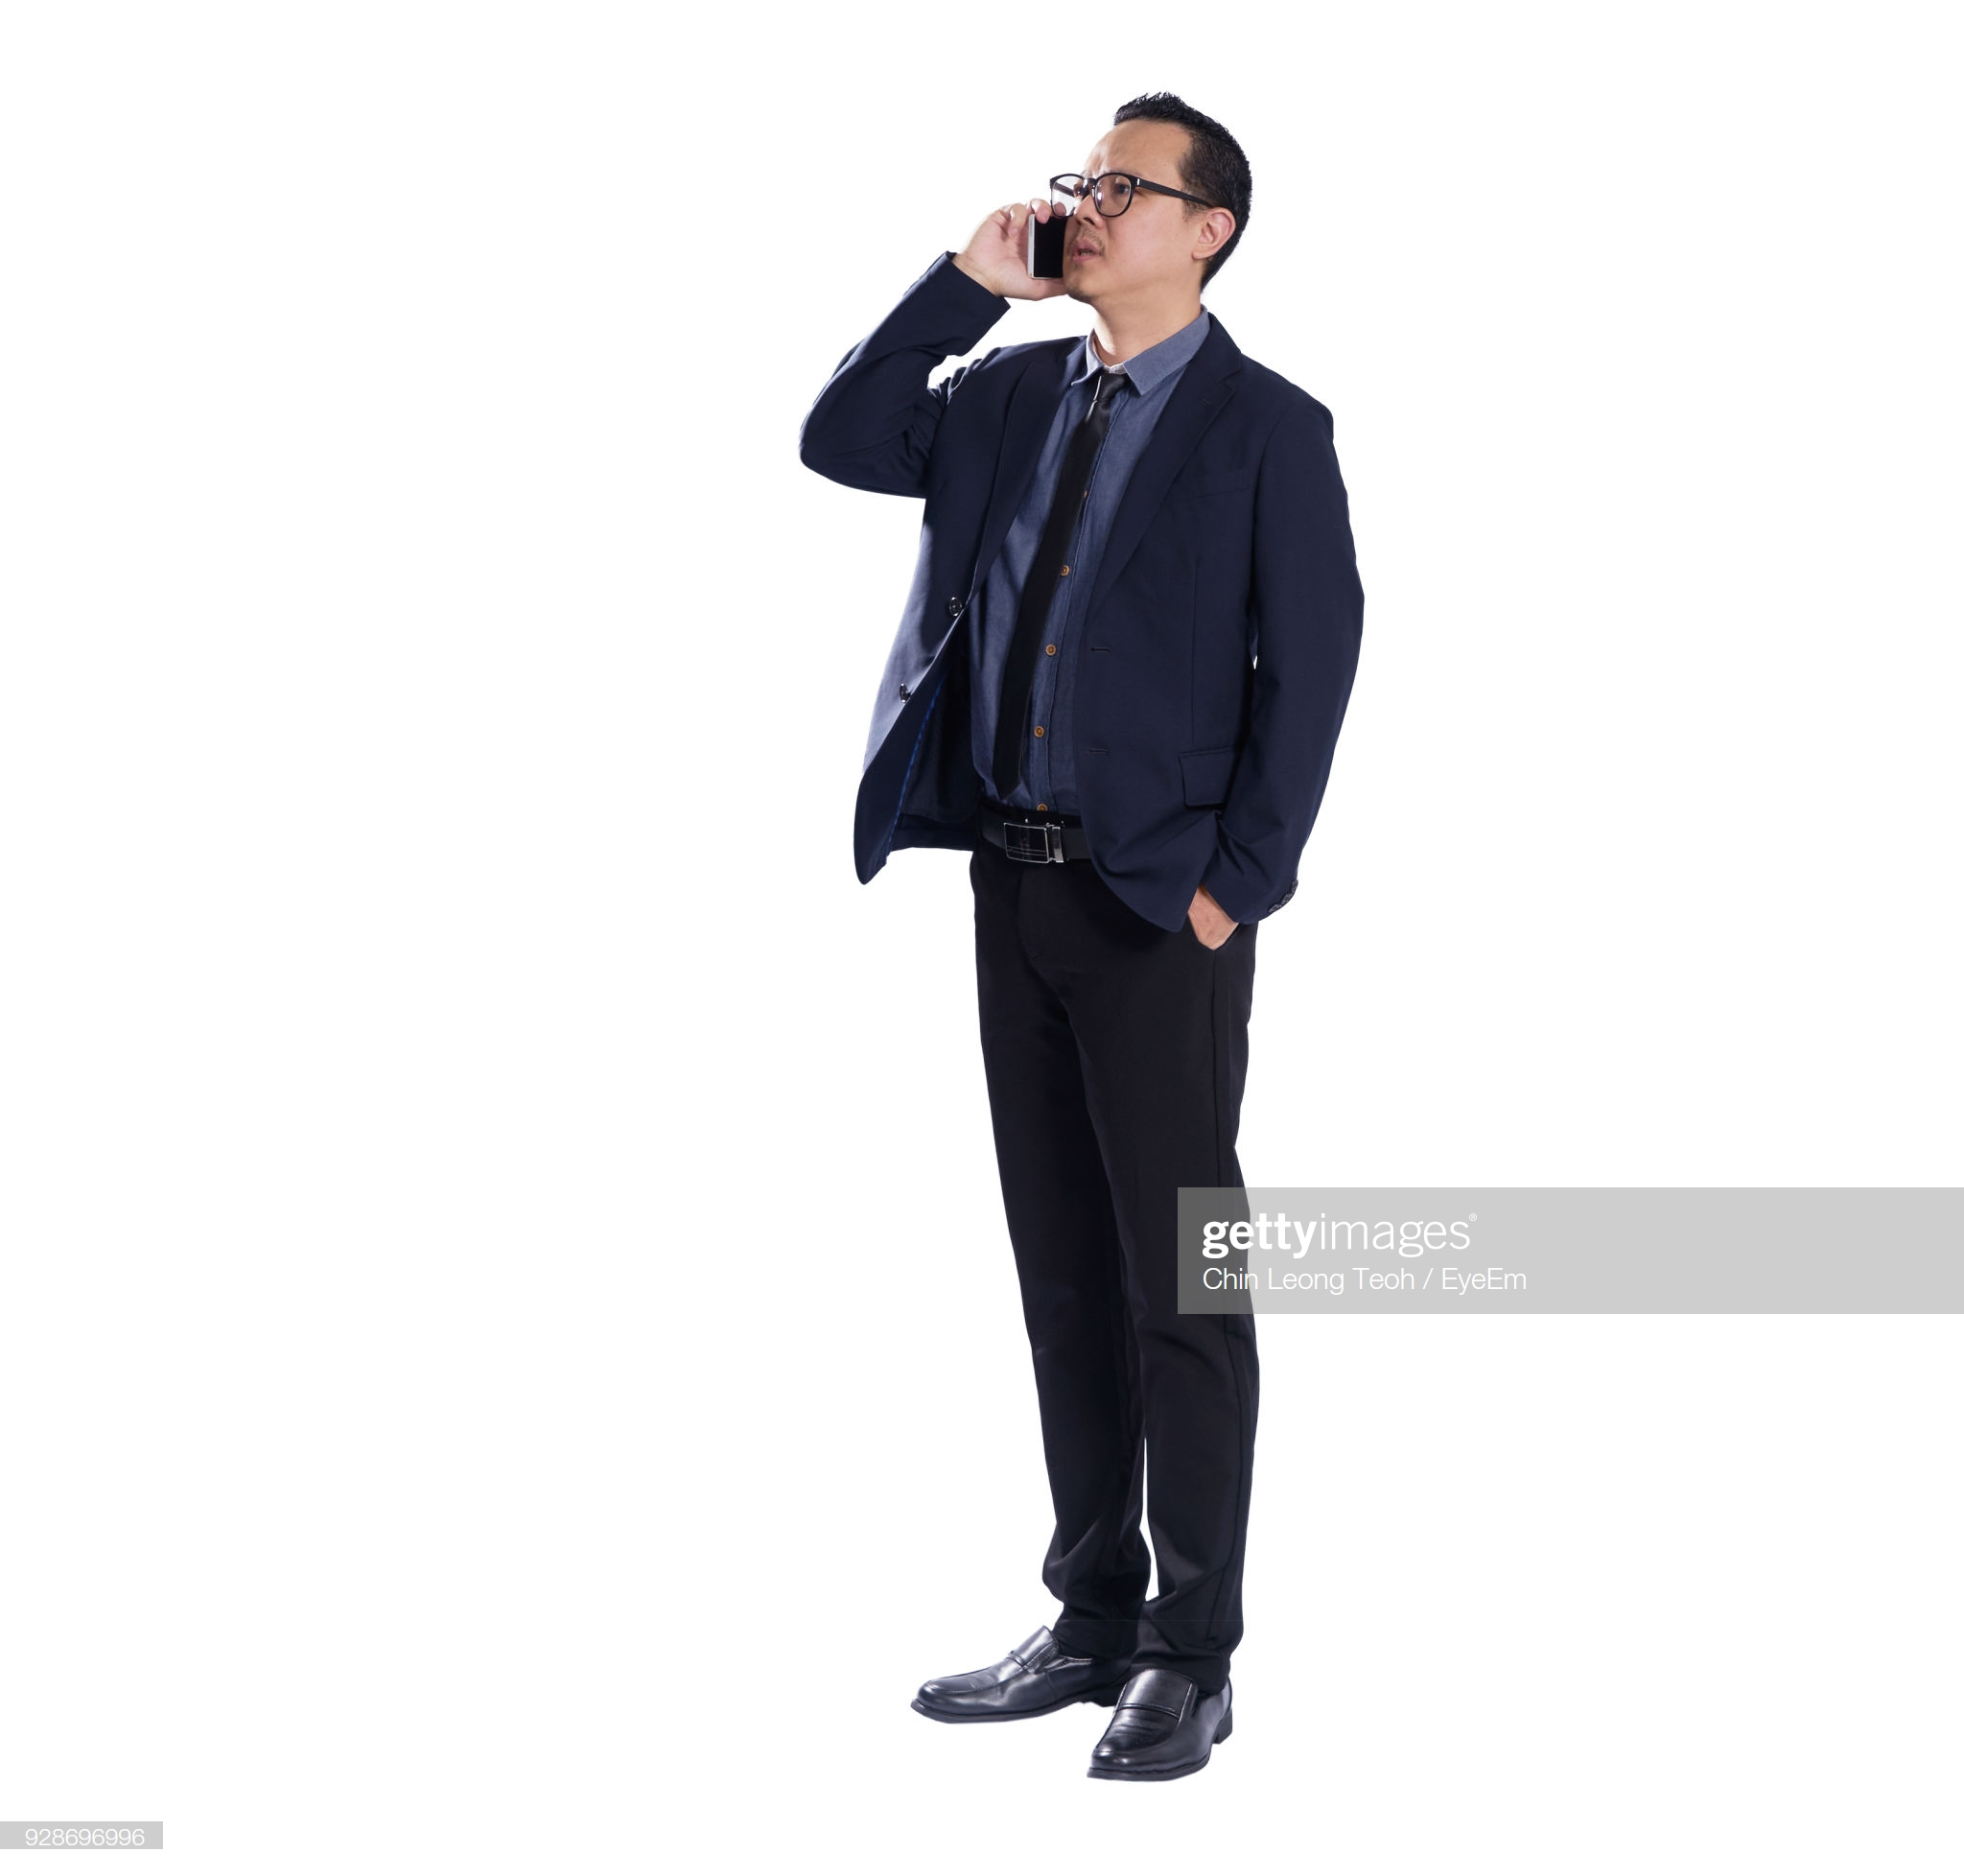phone: (973, 189, 1073, 309)
talk: (975, 165, 1159, 310)
